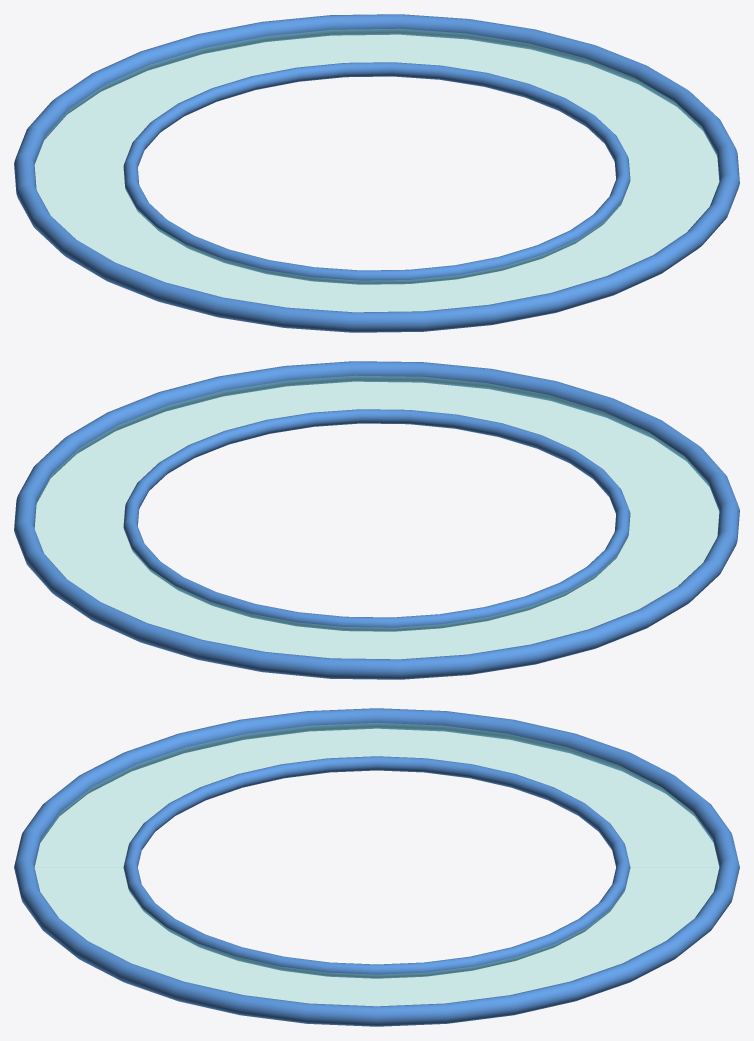
Rendered from ring.glb.
3 renders of one model, top to bottom at view 1: azimuth 30°, elevation 25°; view 2: azimuth 150°, elevation 25°; view 3: azimuth 270°, elevation 25°, orthographic.
Parts seen in each view (by area): view 1: Circle.004; view 2: Circle.004; view 3: Circle.004.
Boxes of the visible parts, box(x1,y1,x2,y2) form: Circle.004: box(14, 14, 739, 332); Circle.004: box(14, 361, 739, 679); Circle.004: box(14, 708, 739, 1026).
Size of the model in its own units: 2.02 by 0.0573 by 2.02.
